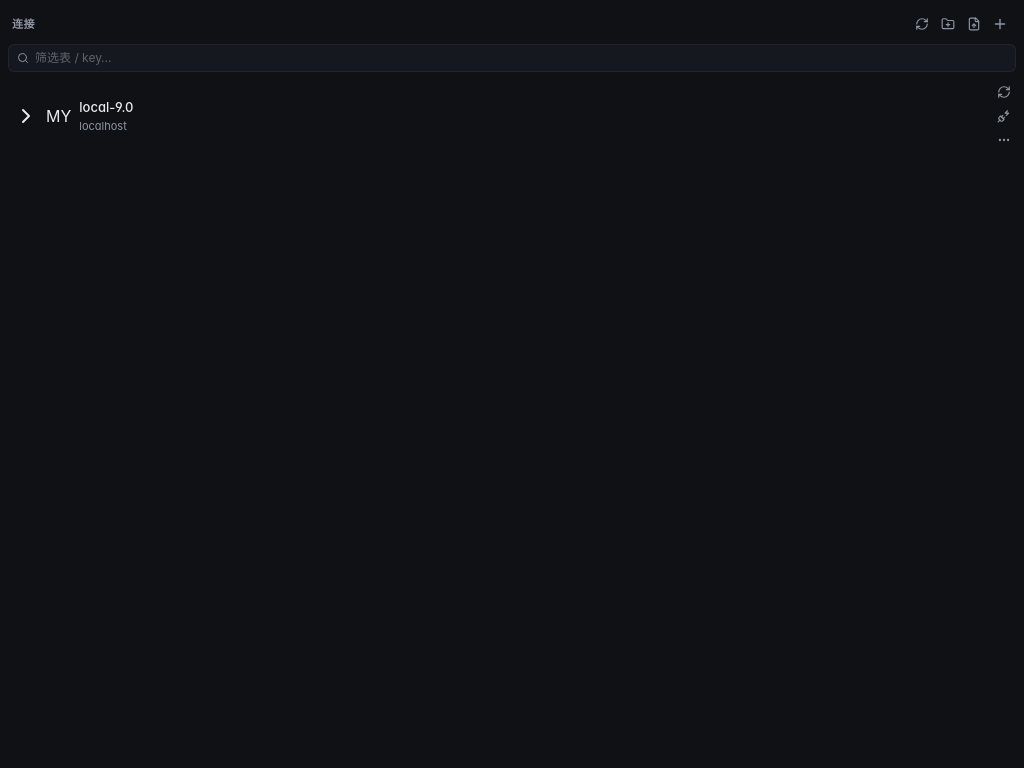
ConnectionTree table operations › keeps the multi-format data import entry reachable for tables
Click the text "local-9.0".
click(106, 108)  # box [79, 98, 134, 118]
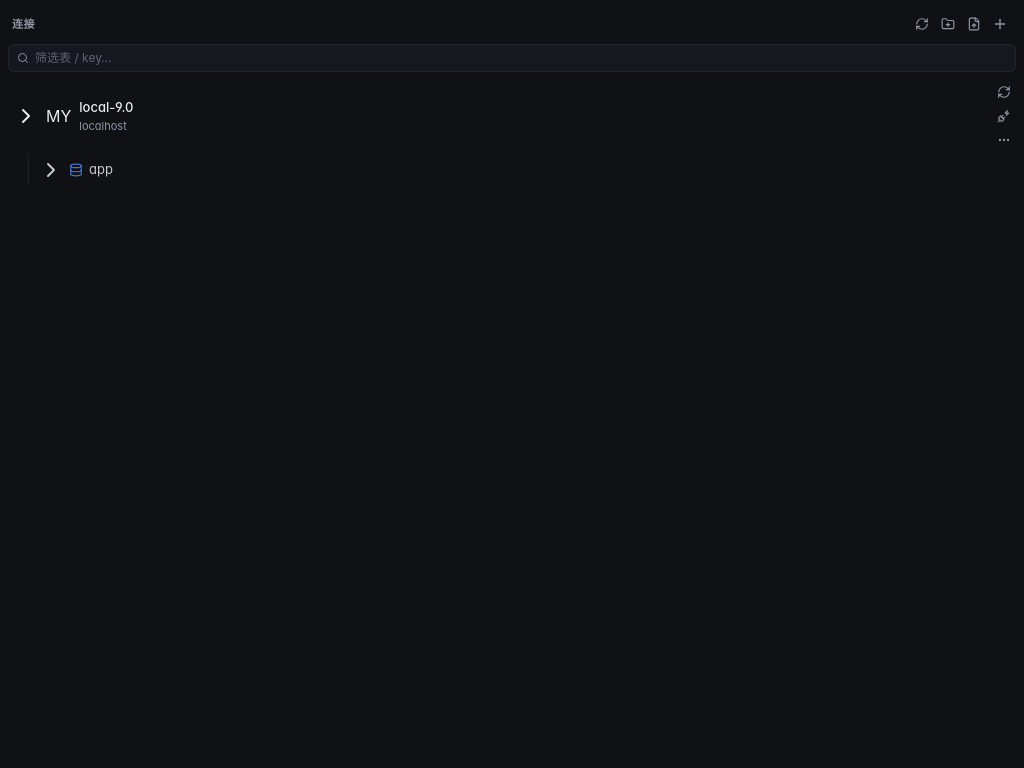
Click the button "app".
click(51, 170)  # box [33, 154, 1016, 186]
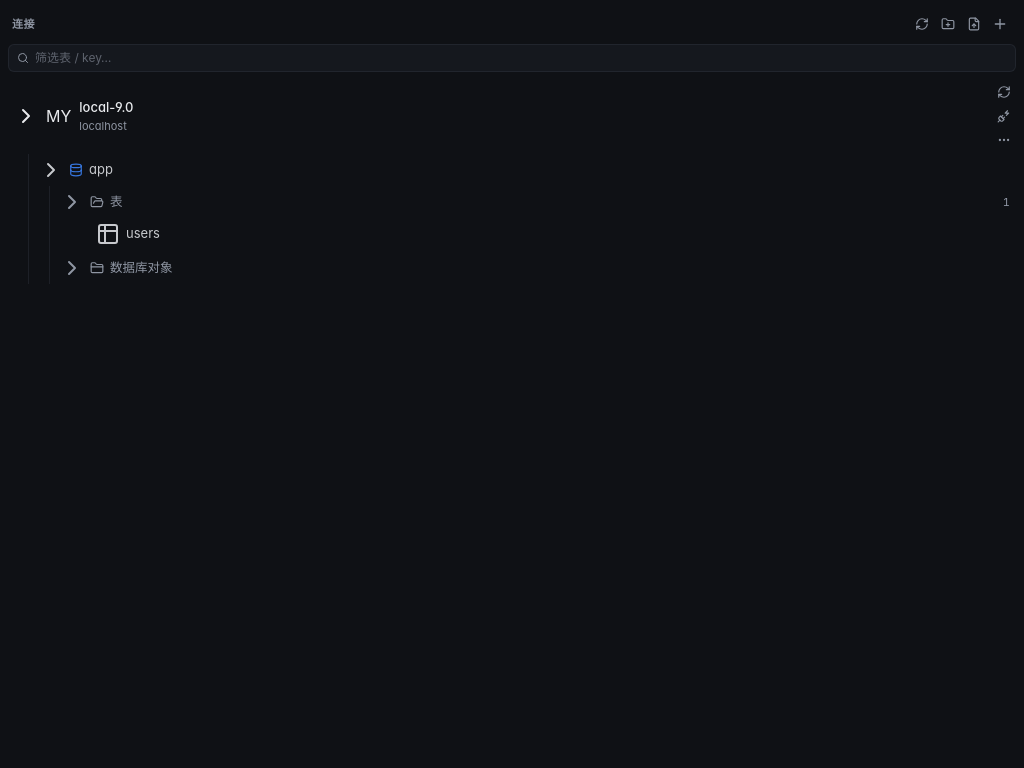
Right-click the button "users".
right_click(143, 233)  # box [70, 218, 1016, 250]
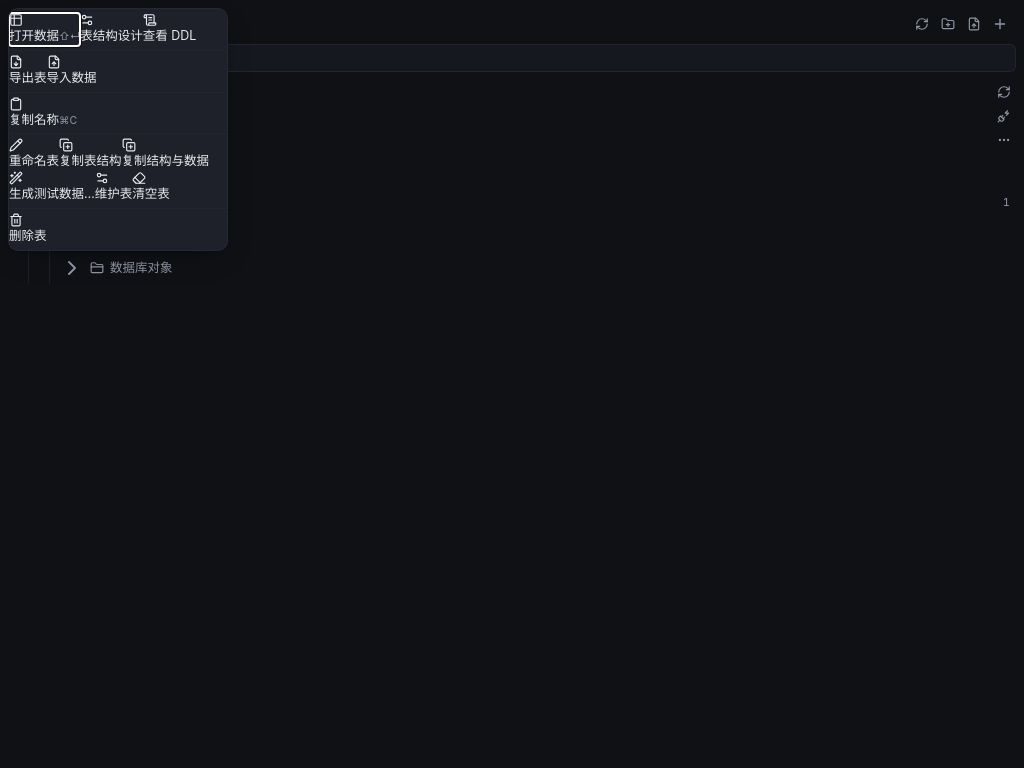
Click the button "导入数据".
click(72, 71)  # box [46, 55, 96, 88]
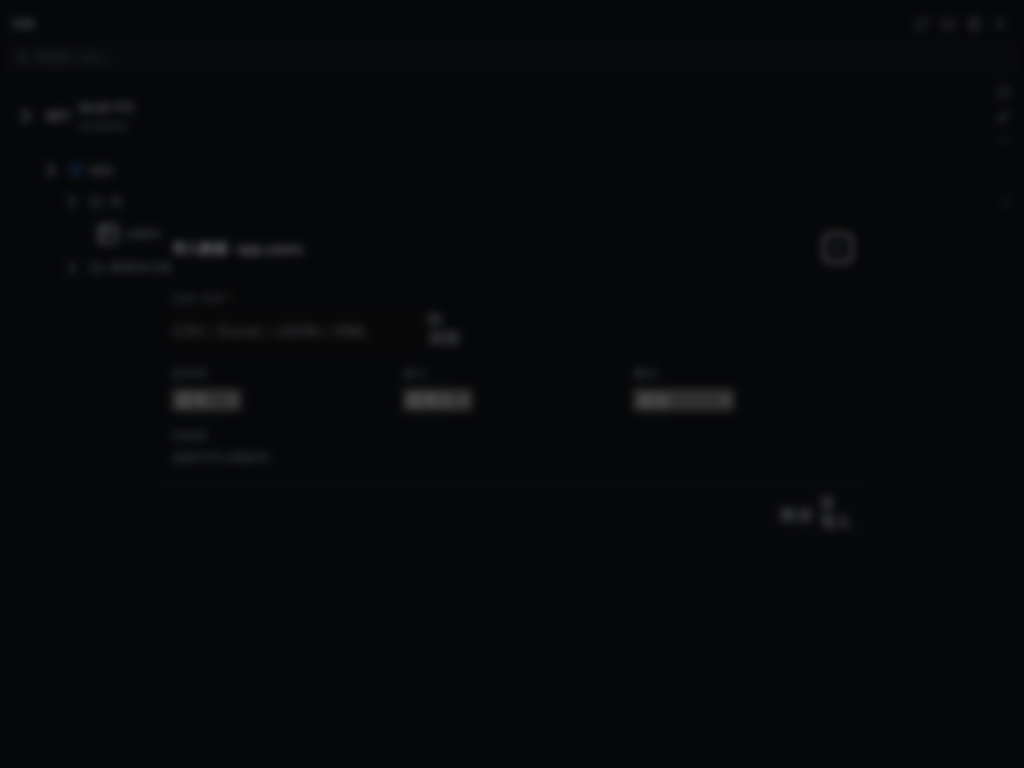
Check: the dialog "导入数据 · app.users" is shown, box [152, 222, 872, 546]
